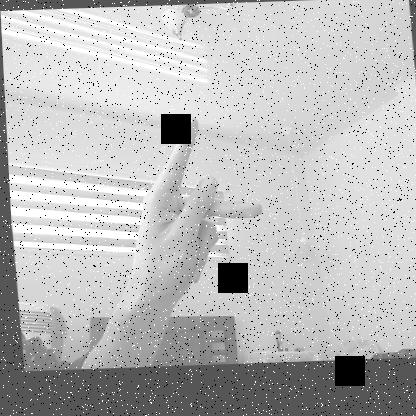K: (124, 113, 270, 302)
